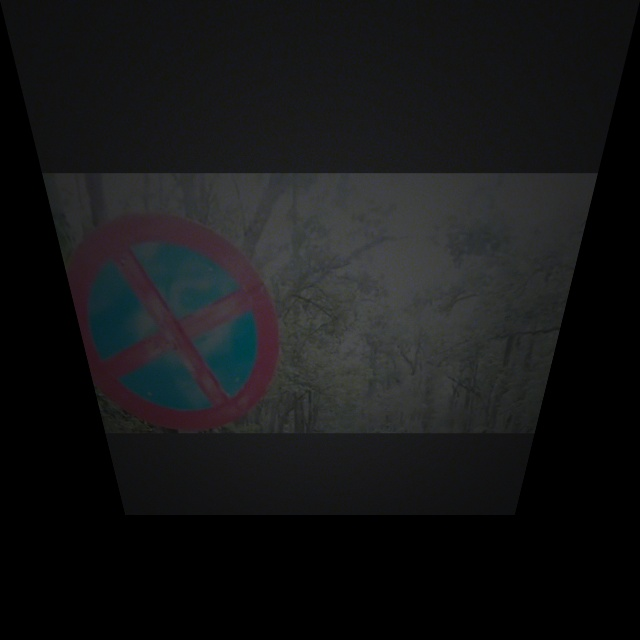No_Stopping_or_Standing: (66, 229, 274, 411)
